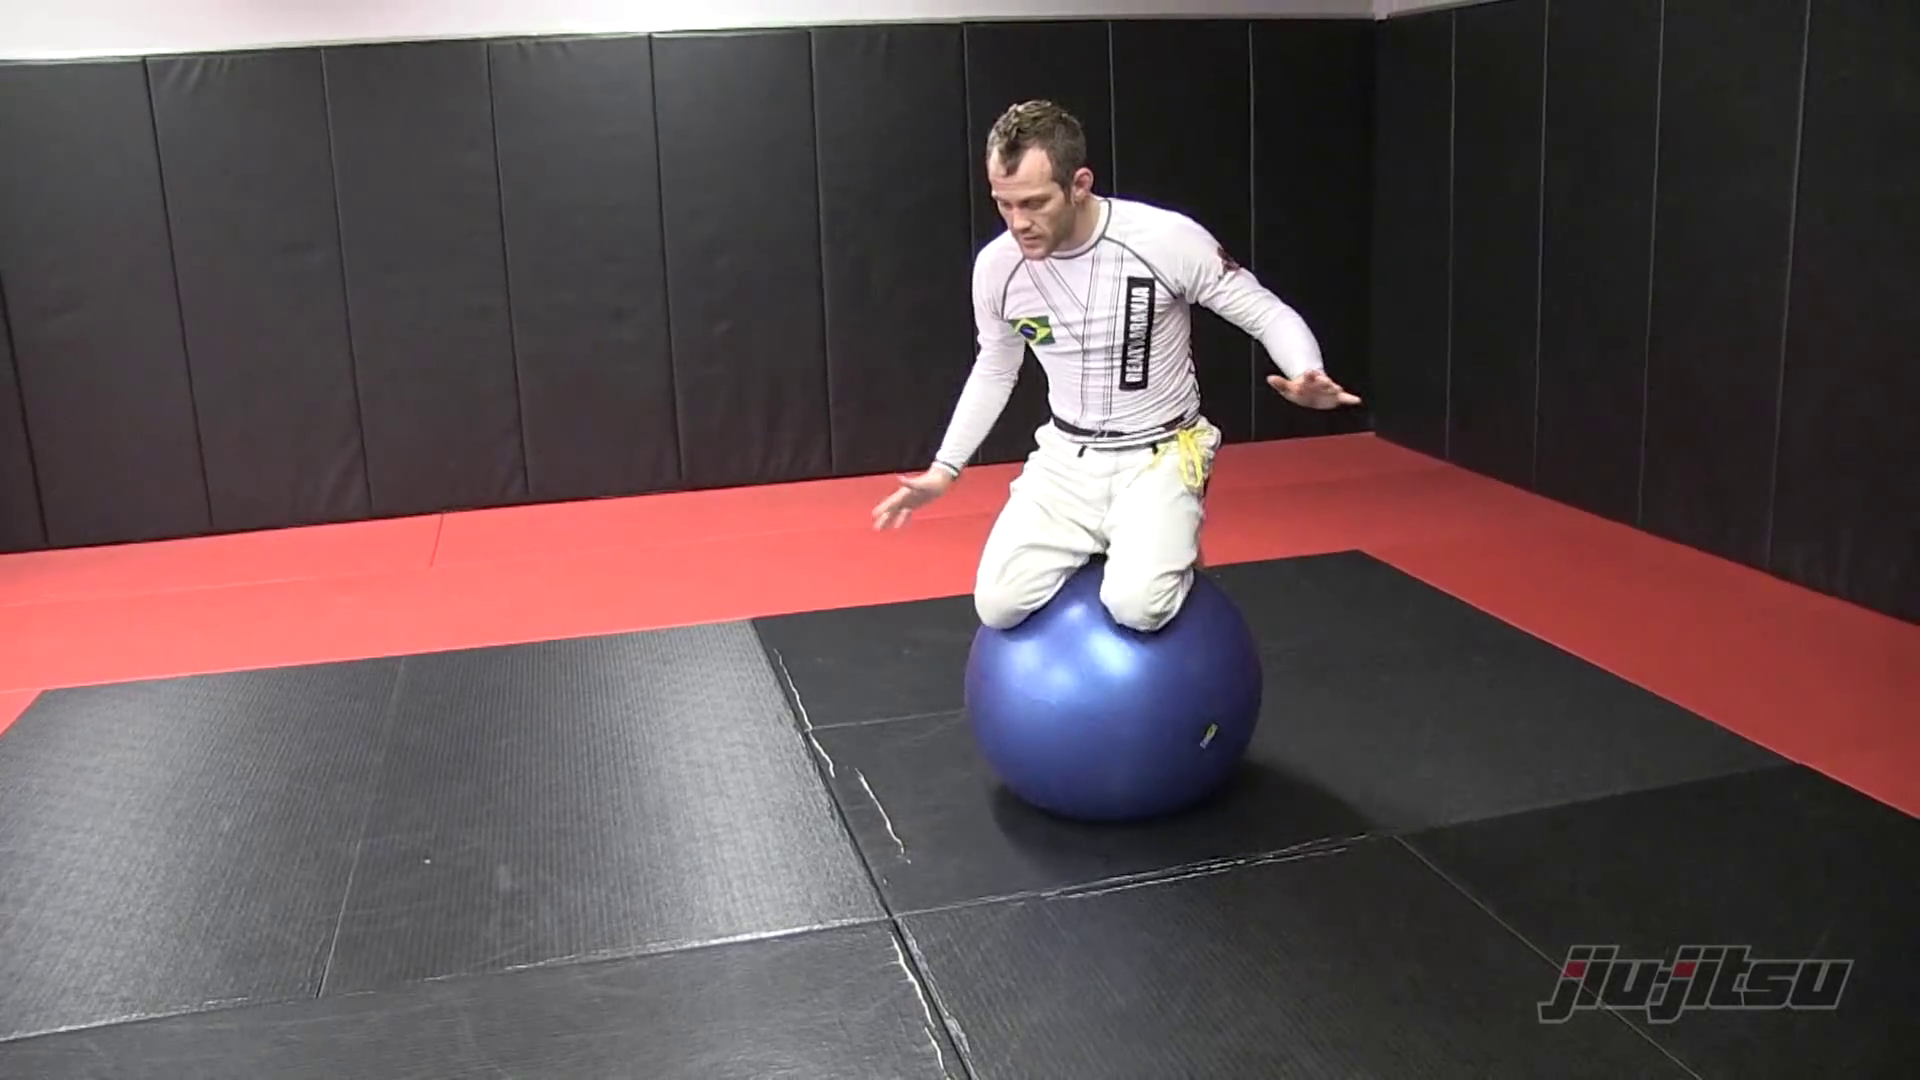yogaball: (945, 556, 1270, 841)
